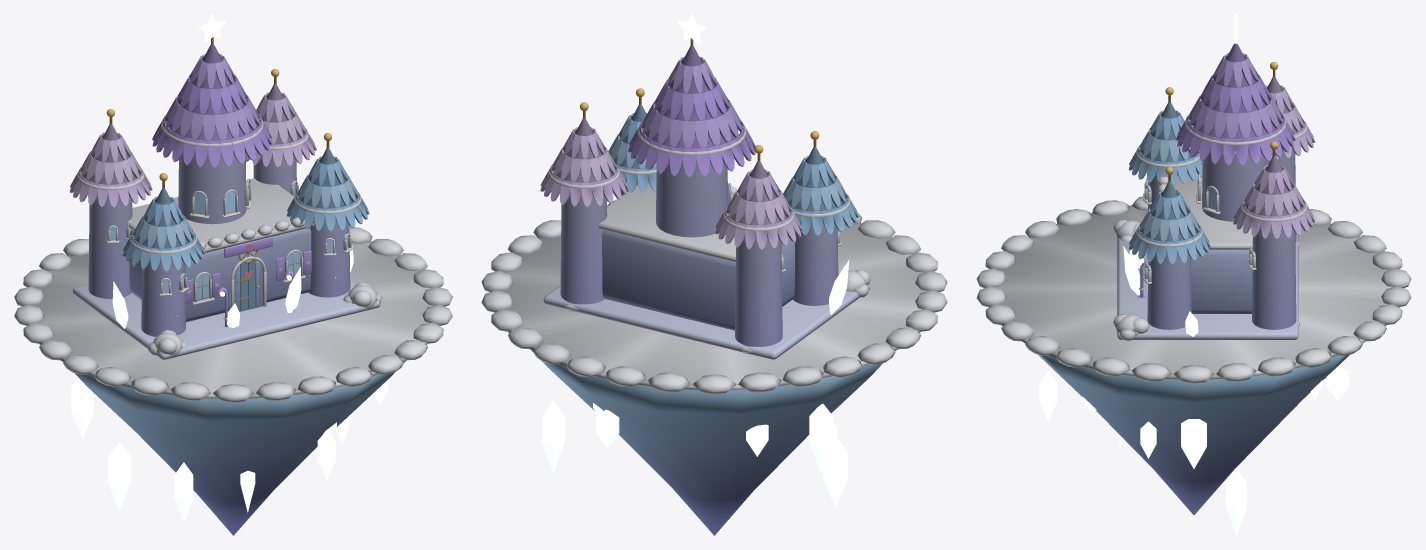
The model's file is aurora-switch-palace.glb.
3 renders of one model, left to right at view 1: azimuth 30°, elevation 25°; view 2: azimuth 150°, elevation 25°; view 3: azimuth 270°, elevation 25°, orthographic. The views are drawn at different scales.
Parts seen in each view (by area): view 1: W_AURORA_SWITCH_PALACE__berg; view 2: W_AURORA_SWITCH_PALACE__berg; view 3: W_AURORA_SWITCH_PALACE__berg.
Part boxes in pixels (x1=…): W_AURORA_SWITCH_PALACE__berg: x1=14, y1=14, x2=452, y2=535; W_AURORA_SWITCH_PALACE__berg: x1=481, y1=14, x2=947, y2=535; W_AURORA_SWITCH_PALACE__berg: x1=976, y1=14, x2=1411, y2=535.
Size of the model in its own units: 1.58 by 2 by 1.57.
